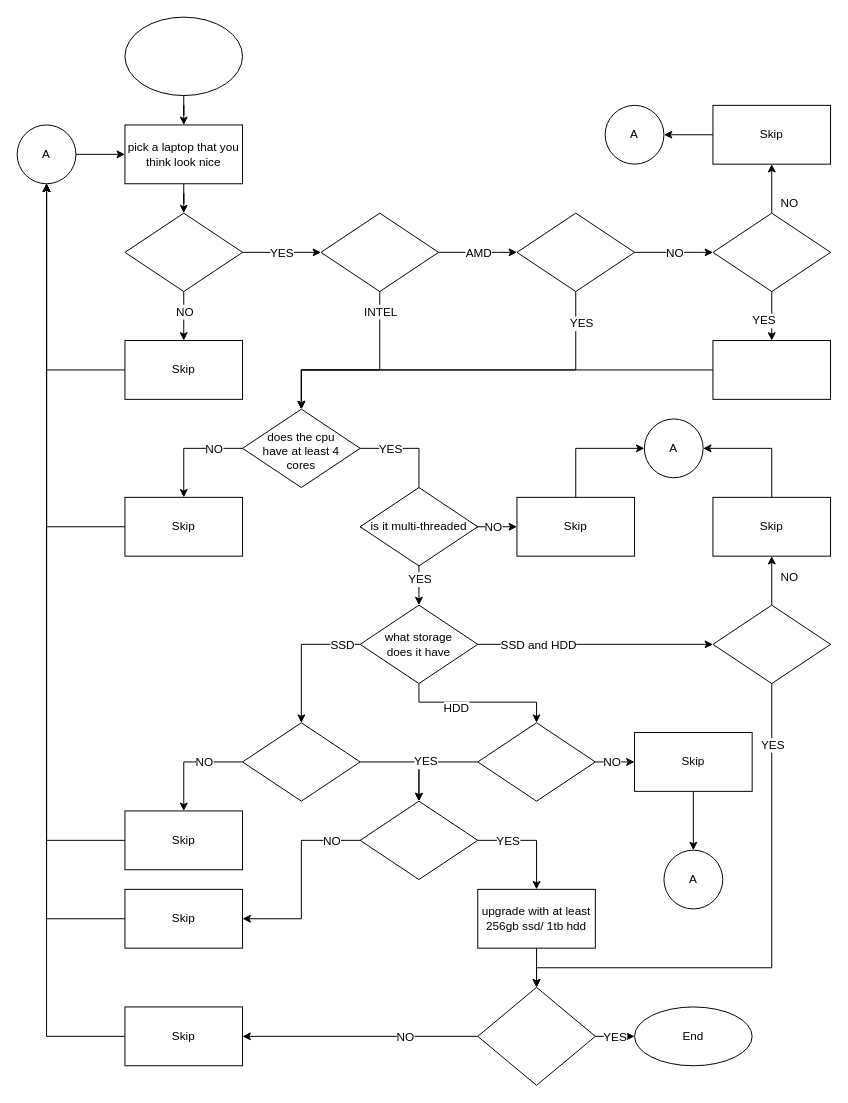
Image size: 848x1103. Some labels were removed from this diagram. The centre of each missing label's shape, as x and y in pixels:
"does it have at least 1tb hdd" belongs at (536,761).
"does it have at least 1tb hdd and 256gb ssd" belongs at (771,644).
"does it have at least 256gb ssd" belongs at (301,761).
"does it have at least 8gb of ram" belongs at (183,252).
"does it have dedicated graphics processing unit" belongs at (536,1035).
"does it have more ram slot" belongs at (771,252).
"Is it an intel or amd cpu" belongs at (379,252).
"is it dual channel" belongs at (575,252).
"is there upgrade slot for ssd/hdd" belongs at (418,840).
"Start" belongs at (183,56).
"upgrade to at least 8gb of ram" belongs at (771,369).
